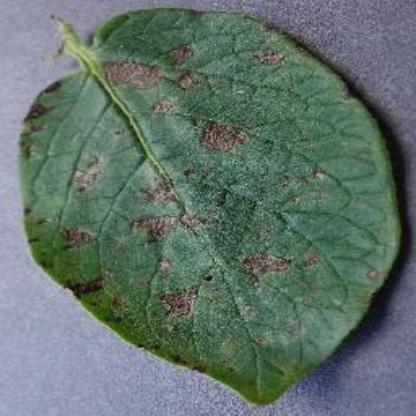Early-Blight: (19, 6, 402, 406)
